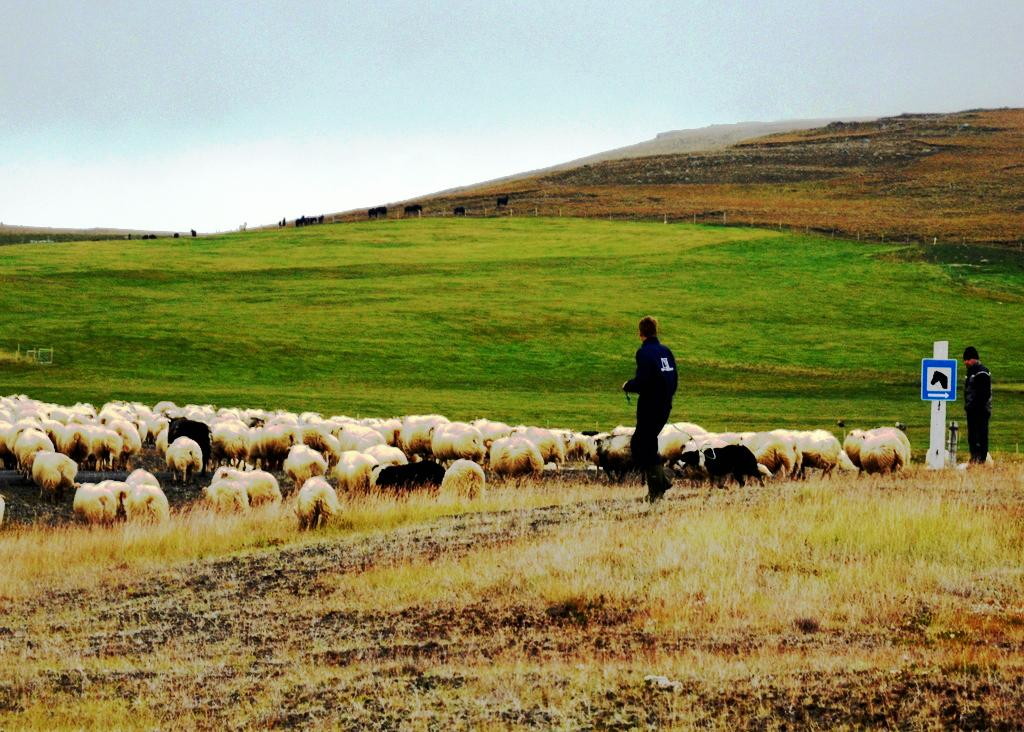Sheep: (292, 474, 343, 534), (657, 425, 707, 481), (161, 414, 211, 469), (488, 436, 544, 485), (430, 423, 486, 471), (792, 429, 843, 481), (30, 451, 80, 504), (746, 430, 796, 483), (12, 428, 54, 482), (332, 450, 381, 495), (229, 468, 282, 509), (282, 444, 328, 490), (72, 481, 118, 527), (440, 458, 486, 504), (398, 416, 442, 464), (123, 482, 170, 526), (258, 422, 300, 471), (58, 422, 99, 472), (520, 425, 566, 468), (870, 426, 912, 471), (202, 479, 252, 516), (166, 436, 204, 484), (296, 424, 338, 467), (211, 421, 250, 466), (107, 419, 141, 470), (335, 423, 383, 458), (96, 480, 134, 520), (472, 418, 514, 451), (844, 429, 872, 475), (362, 444, 409, 470), (40, 417, 70, 452), (563, 432, 595, 464), (370, 418, 404, 448), (586, 432, 612, 466), (244, 426, 264, 467), (125, 468, 162, 490), (96, 406, 128, 429), (315, 418, 347, 440), (146, 416, 168, 446), (210, 466, 242, 486), (670, 422, 708, 437), (410, 413, 452, 426), (155, 427, 169, 462), (712, 432, 746, 446), (46, 408, 74, 425), (15, 409, 44, 424), (96, 479, 127, 493), (66, 412, 96, 426), (268, 413, 298, 426), (298, 412, 325, 425), (153, 401, 179, 414), (360, 416, 388, 428), (118, 404, 138, 420), (129, 403, 151, 416), (328, 415, 356, 425), (611, 425, 636, 436), (0, 406, 16, 423), (0, 394, 21, 406), (79, 402, 96, 416), (510, 424, 531, 434), (15, 394, 31, 404), (275, 410, 292, 419)
